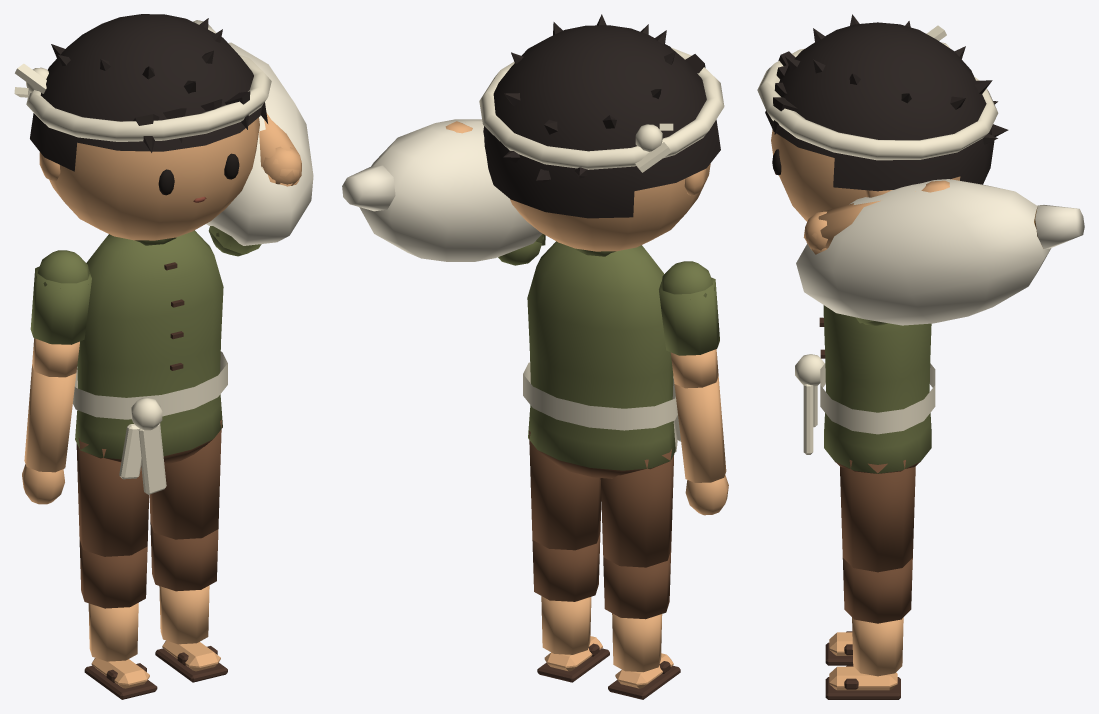
File: era2_porter_sack.glb
The picture shows the model from 3 angles, left to right: view 1: azimuth 30°, elevation 25°; view 2: azimuth 150°, elevation 25°; view 3: azimuth 270°, elevation 25°; orthographic projection.
Visible parts, largest first — view 1: head, body, shin_L, shin_R, prop_sack, arm_R, leg_R, forearm_R, leg_L, arm_L, forearm_L; view 2: head, body, prop_sack, shin_L, shin_R, leg_R, arm_R, leg_L, forearm_R, arm_L; view 3: head, prop_sack, body, shin_L, leg_L, forearm_L, shin_R, arm_L.
Part boxes in pixels (left/top/right/bottom): head: left=14, top=14, right=271, bottom=240; body: left=73, top=230, right=227, bottom=494; shin_L: left=150, top=522, right=227, bottom=682; shin_R: left=79, top=540, right=157, bottom=699; prop_sack: left=193, top=20, right=313, bottom=245; arm_R: left=30, top=250, right=91, bottom=377; leg_R: left=76, top=437, right=149, bottom=556; forearm_R: left=22, top=365, right=76, bottom=504; leg_L: left=149, top=420, right=221, bottom=539; arm_L: left=208, top=146, right=301, bottom=256; forearm_L: left=259, top=113, right=301, bottom=185; head: left=479, top=14, right=724, bottom=251; body: left=523, top=241, right=680, bottom=478; prop_sack: left=342, top=119, right=542, bottom=261; shin_L: left=532, top=533, right=609, bottom=682; shin_R: left=603, top=550, right=680, bottom=699; leg_R: left=600, top=449, right=674, bottom=567; arm_R: left=659, top=261, right=719, bottom=388; leg_L: left=529, top=431, right=601, bottom=550; forearm_R: left=674, top=376, right=728, bottom=515; arm_L: left=498, top=234, right=545, bottom=265; head: left=757, top=14, right=1008, bottom=221; prop_sack: left=796, top=179, right=1084, bottom=325; body: left=795, top=305, right=935, bottom=473; shin_L: left=825, top=558, right=912, bottom=699; leg_L: left=840, top=460, right=915, bottom=572; forearm_L: left=805, top=180, right=949, bottom=250; shin_R: left=825, top=631, right=853, bottom=665; arm_L: left=803, top=211, right=887, bottom=325.
Bounding box in the file's own units: 0.7278 × 1.48 × 0.6843.
